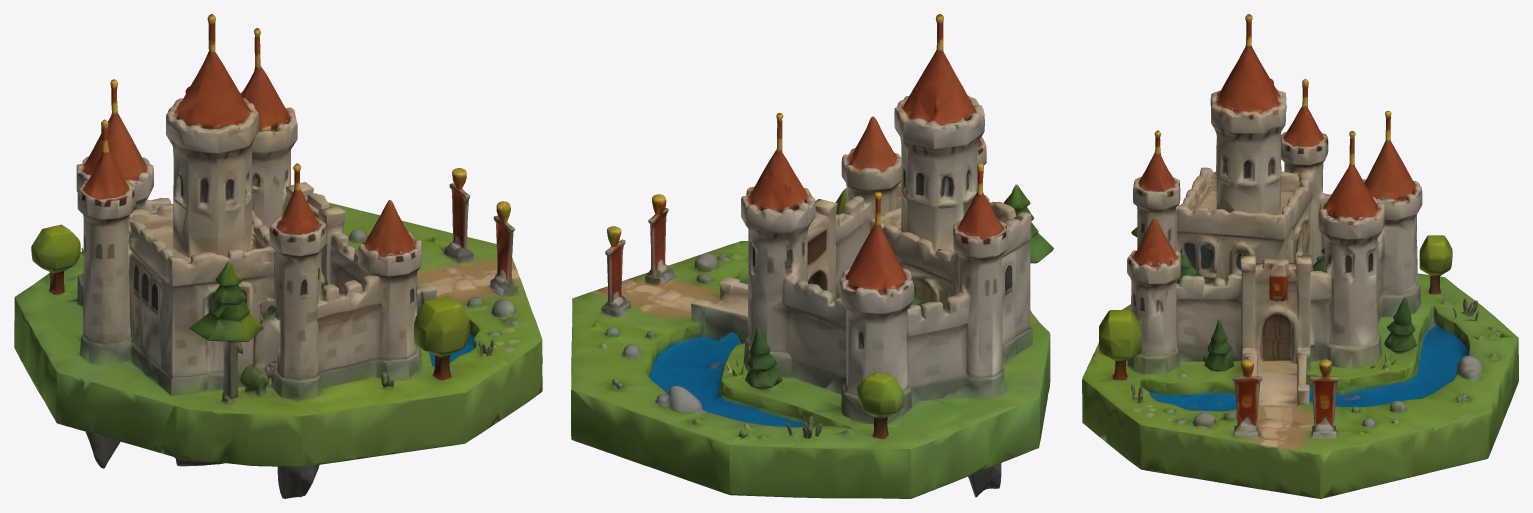
File: castle.glb
The picture shows the model from 3 angles, left to right: view 1: azimuth 30°, elevation 25°; view 2: azimuth 150°, elevation 25°; view 3: azimuth 270°, elevation 25°; orthographic projection. The views are drawn at different scales.
Visible parts, largest first — view 1: tripo_node_23d9c489-6781-4aa7-b6aa-62fb37b1bec6; view 2: tripo_node_23d9c489-6781-4aa7-b6aa-62fb37b1bec6; view 3: tripo_node_23d9c489-6781-4aa7-b6aa-62fb37b1bec6.
Part boxes in pixels (bbox=[...]): tripo_node_23d9c489-6781-4aa7-b6aa-62fb37b1bec6: bbox=[14, 14, 542, 498]; tripo_node_23d9c489-6781-4aa7-b6aa-62fb37b1bec6: bbox=[571, 14, 1053, 498]; tripo_node_23d9c489-6781-4aa7-b6aa-62fb37b1bec6: bbox=[1082, 14, 1518, 498].
Size of the model in its own units: 0.9998 by 0.9548 by 0.9386.
1 material, 1 textured.
